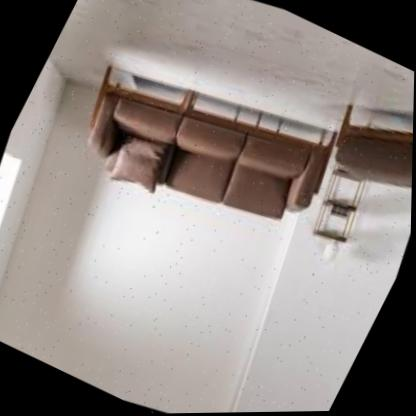Sofa: (41, 10, 369, 294)
